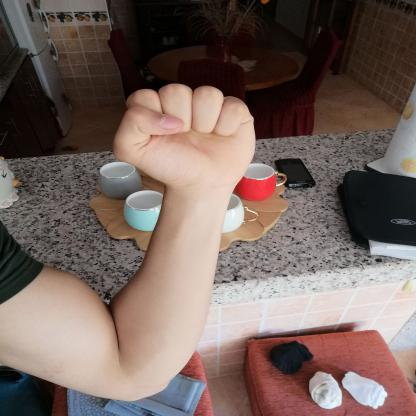SAD: (100, 73, 269, 198)
